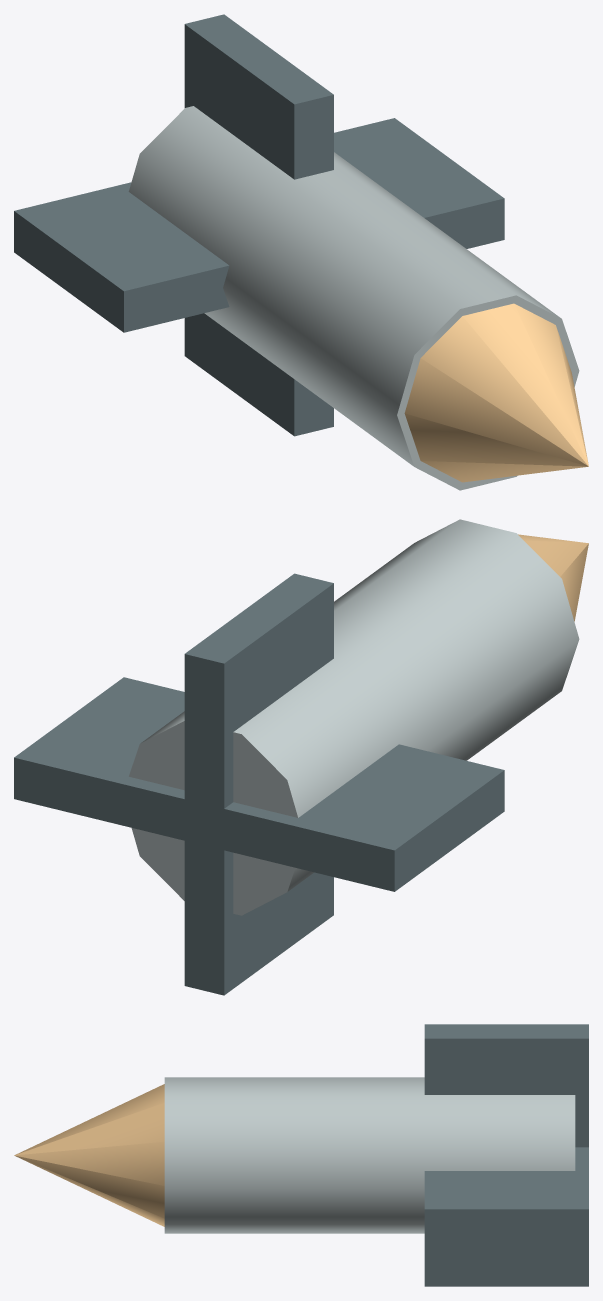
Rendered from rocket.glb.
The picture shows the model from 3 angles, top to bottom: view 1: azimuth 30°, elevation 25°; view 2: azimuth 150°, elevation 25°; view 3: azimuth 270°, elevation 25°; orthographic projection. The views are drawn at different scales.
Visible parts, largest first — view 1: static:world-steel, static:world-carbon (×2), static:world-rocket; view 2: static:world-carbon (×2), static:world-steel, static:world-rocket; view 3: static:world-steel, static:world-carbon (×2), static:world-rocket.
Part boxes in pixels (bbox=[...]): static:world-steel: bbox=[128, 106, 579, 490]; static:world-carbon (×2): bbox=[14, 14, 504, 436]; static:world-rocket: bbox=[404, 303, 588, 482]; static:world-carbon (×2): bbox=[14, 573, 504, 995]; static:world-steel: bbox=[129, 519, 579, 915]; static:world-rocket: bbox=[518, 534, 588, 621]; static:world-steel: bbox=[164, 1077, 575, 1233]; static:world-carbon (×2): bbox=[424, 1024, 588, 1286]; static:world-rocket: bbox=[14, 1084, 164, 1226].
Bounding box in the file's own units: 0.24 × 0.2 × 0.42.
